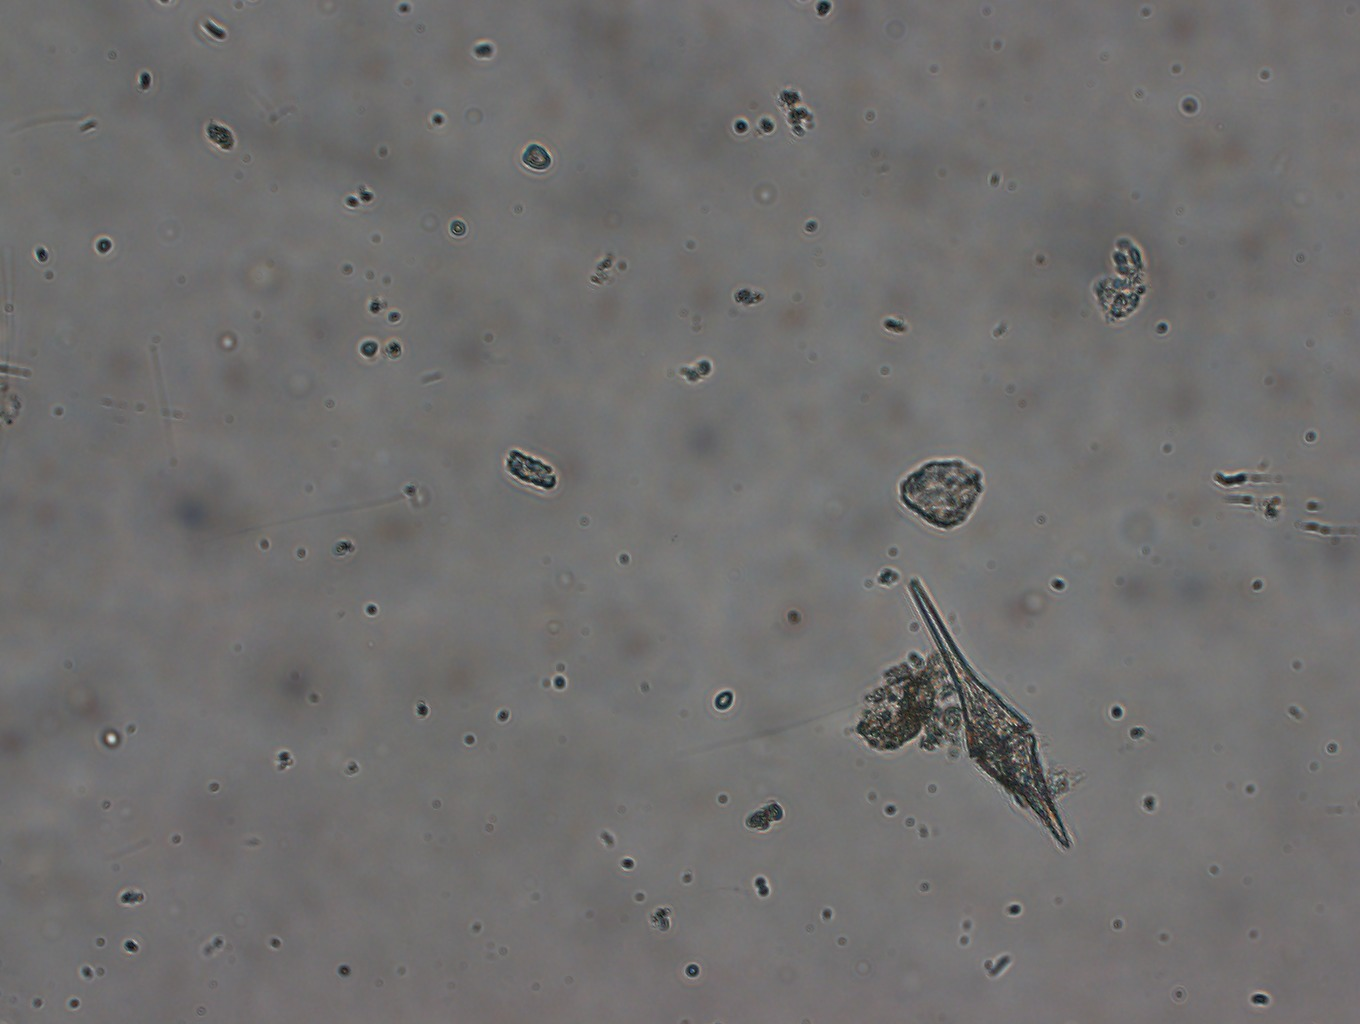ceratium furca: (906, 574, 1076, 853)
